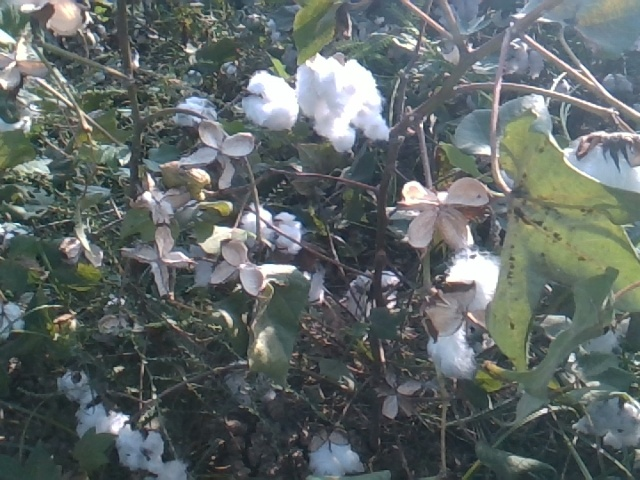cotton: (297, 58, 389, 153), (561, 135, 640, 192), (443, 251, 502, 314), (115, 432, 191, 480), (578, 387, 640, 445), (238, 70, 296, 130), (424, 316, 472, 381), (305, 433, 368, 480), (238, 204, 272, 254), (172, 95, 220, 128), (72, 408, 130, 434), (57, 372, 102, 404), (276, 208, 303, 256), (1, 301, 27, 340)
